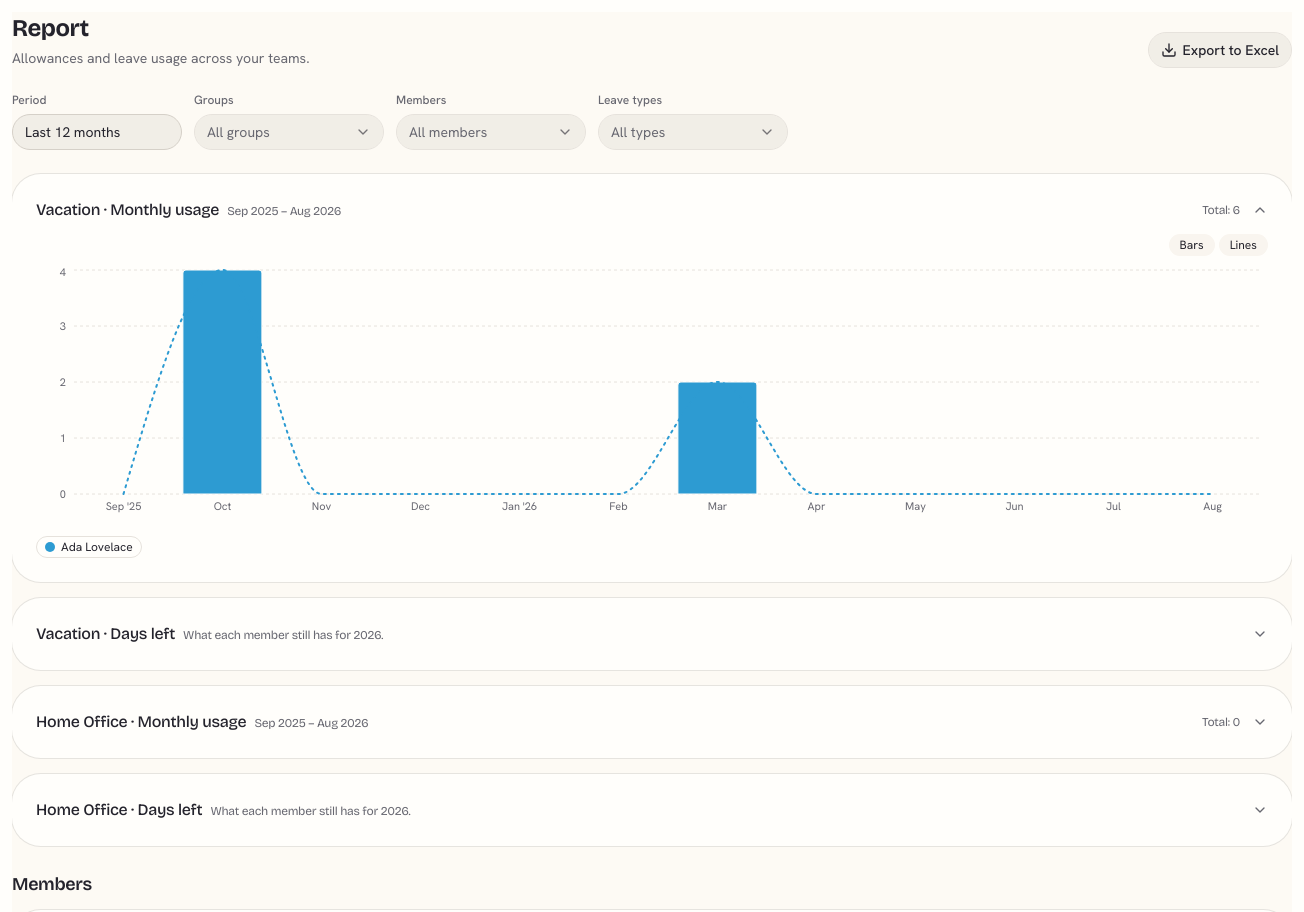
ReportPage › drops the prior year when a single calendar year is picked
Click the dropdown named "Period": (97, 132) top-left (12, 114), bottom-right (182, 150)
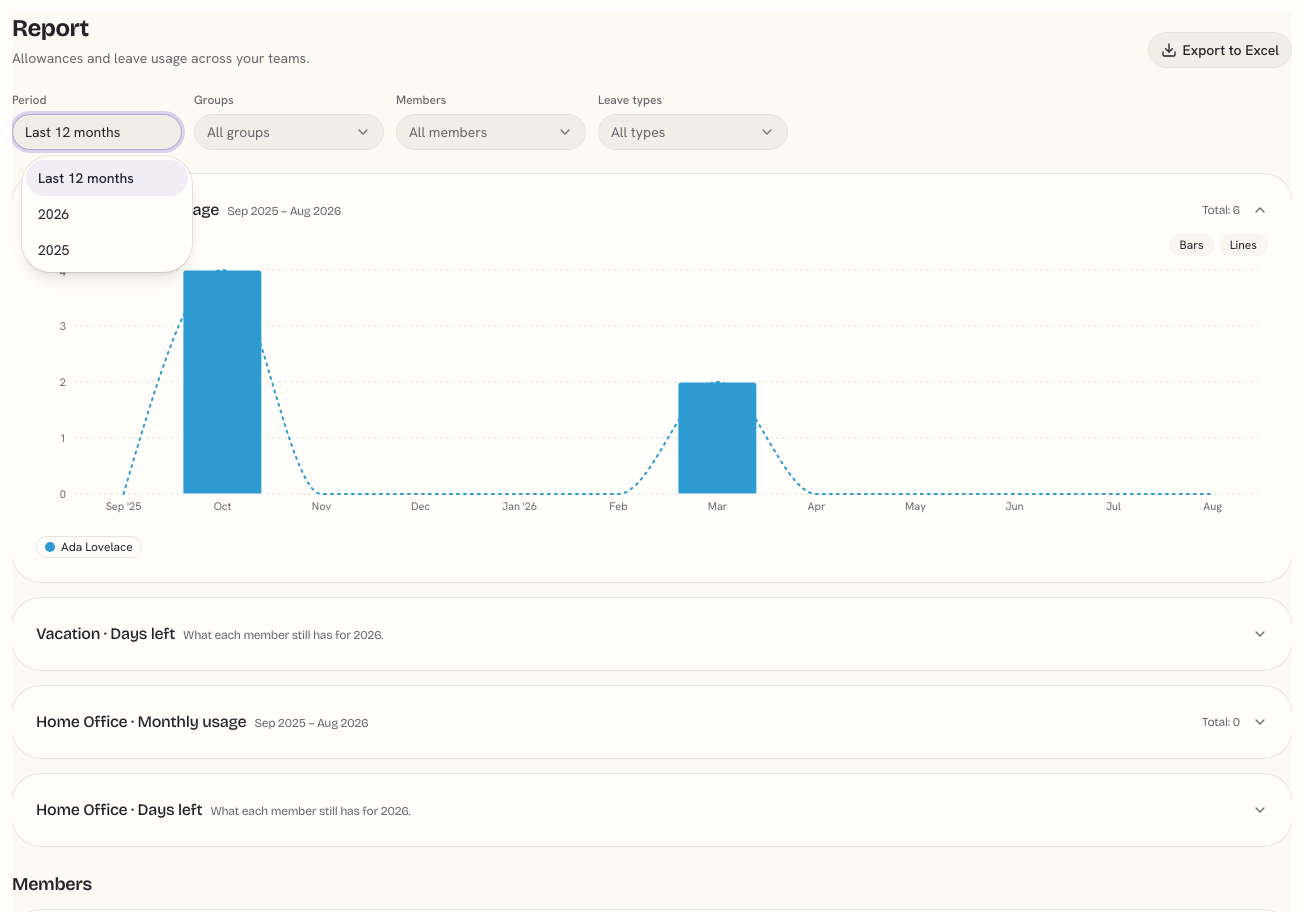
Click the option "2026": (54, 214) top-left (38, 205), bottom-right (69, 223)
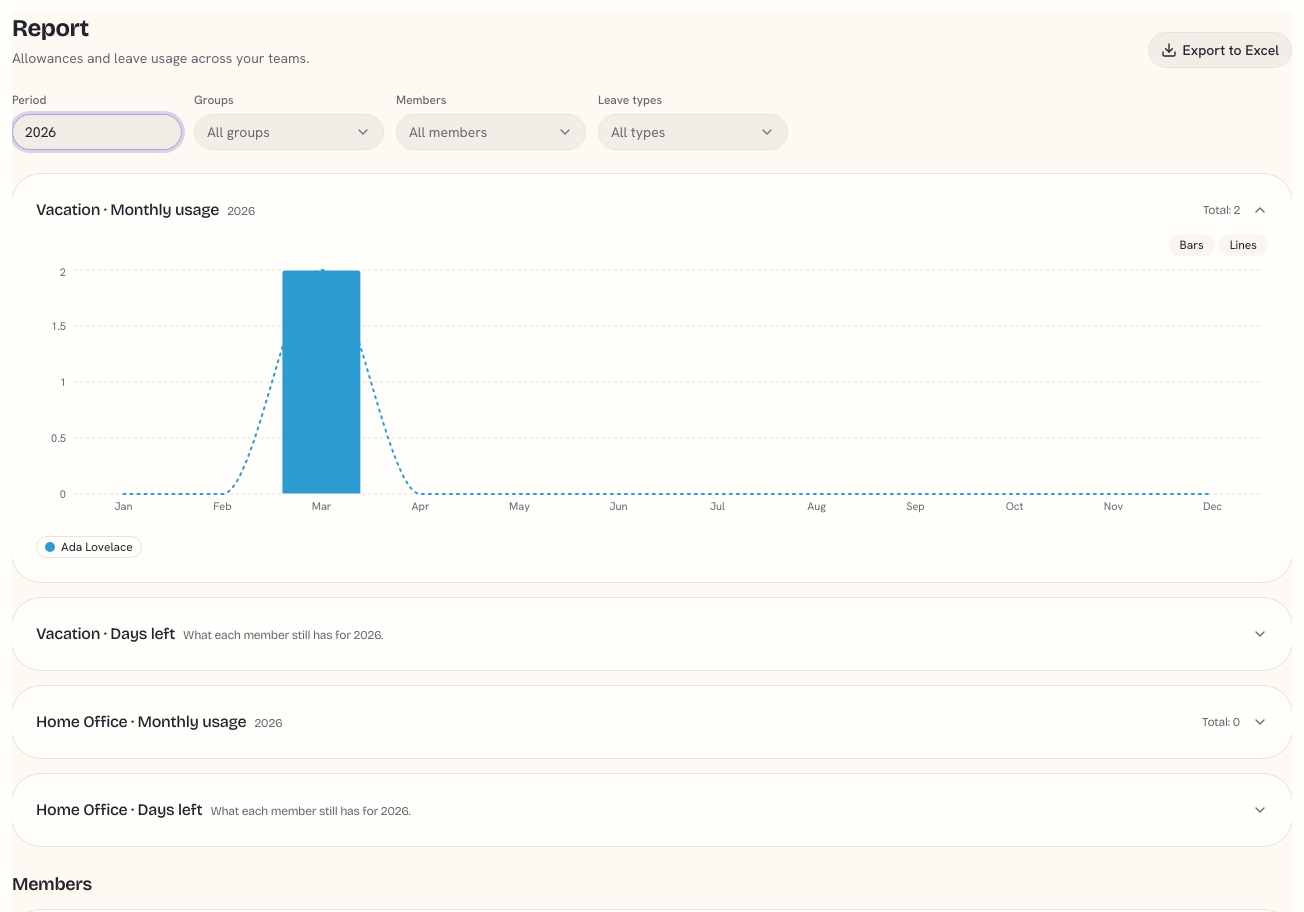
Check: the button "Vacation · Monthly usage 2026 Total: 2" is shown, box top-left (12, 198), bottom-right (1292, 222)
